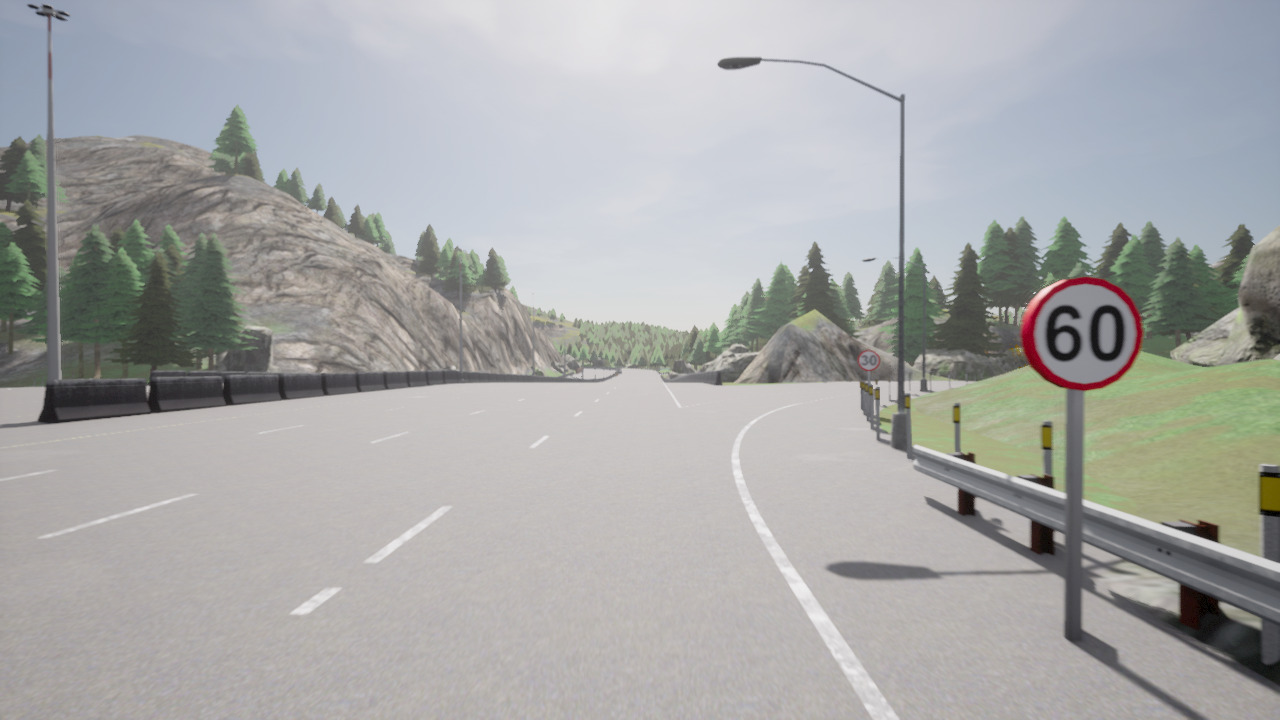sl30: (857, 349, 881, 372)
sl60: (1019, 275, 1145, 392)
